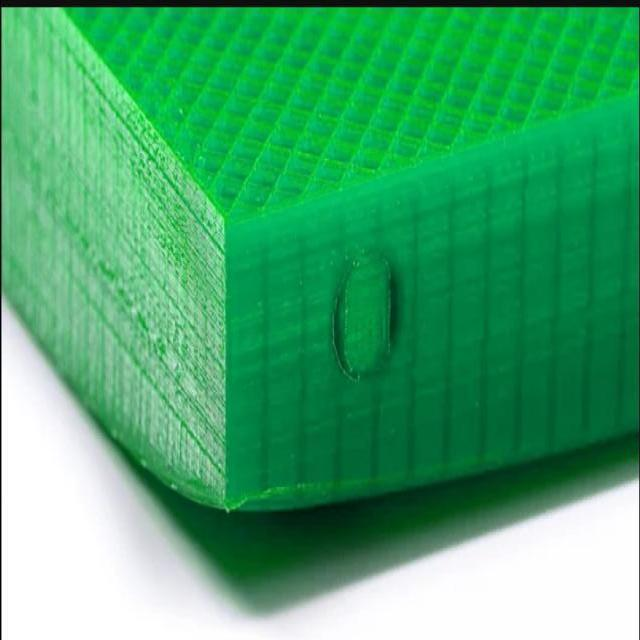Warping: (120, 424, 410, 591), (316, 240, 428, 398)
